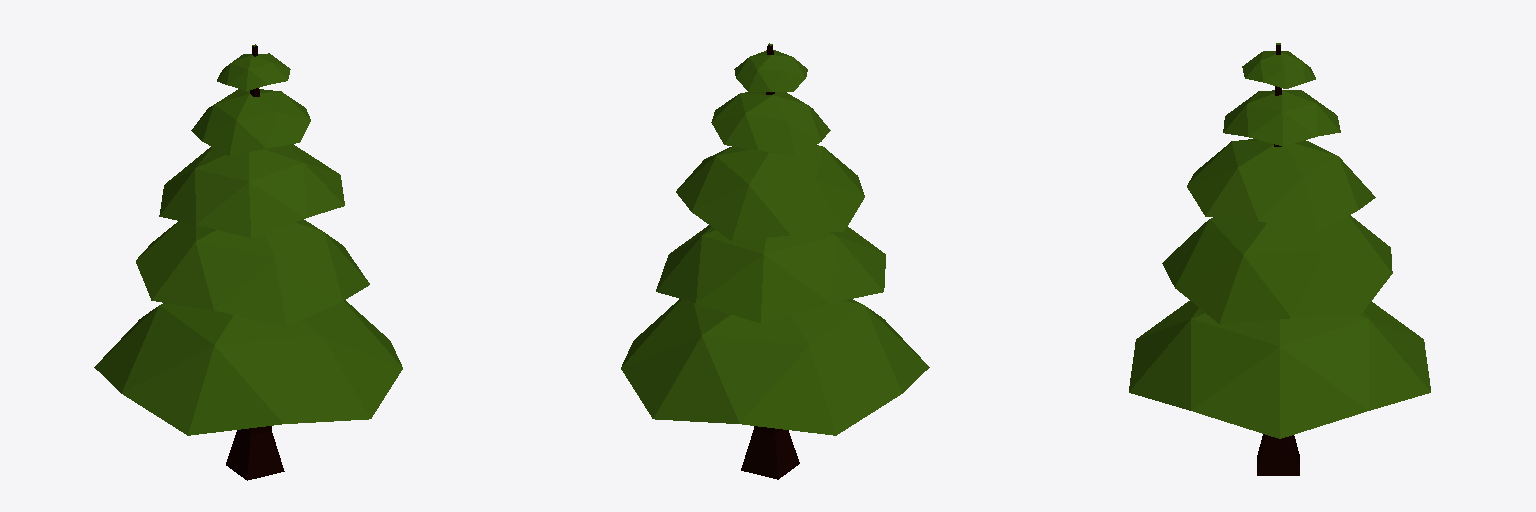
File: Tree.obj
3 views of the same model, side by side, from view 1: azimuth 30°, elevation 25°; view 2: azimuth 150°, elevation 25°; view 3: azimuth 270°, elevation 25° (orthographic).
Parts seen in each view (by area): view 1: Cube; view 2: Cube; view 3: Cube.
Boxes of the visible parts, <box> form: Cube: <box>94,44,402,480</box>; Cube: <box>621,43,929,479</box>; Cube: <box>1129,43,1430,475</box>.
Bounding box in the file's own units: 6.95 × 10.42 × 6.77.